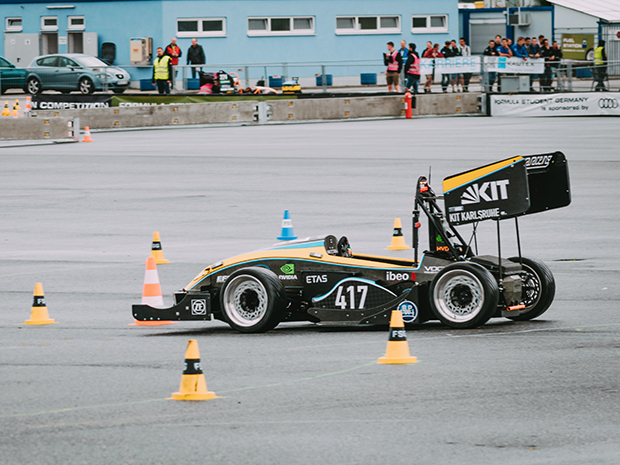cone: (167, 337, 221, 406), (128, 258, 175, 327), (372, 305, 420, 368), (21, 278, 58, 330), (140, 230, 175, 264), (385, 216, 413, 251), (272, 211, 299, 243)
